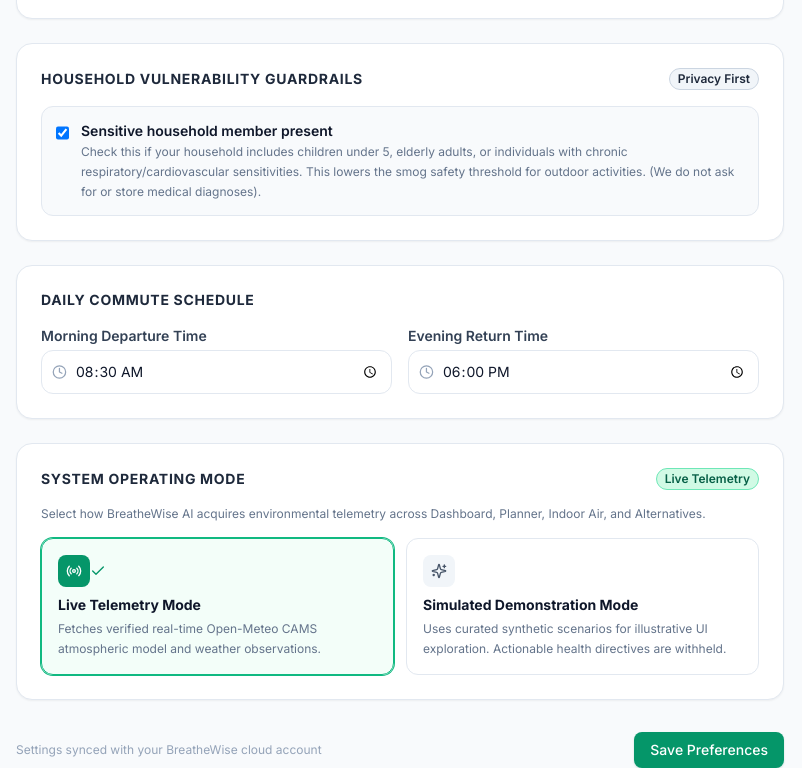
Test: Phase 7.6 — Mode Controls & Final Integration › 3. SettingsPage Mode Controls & Carry-Forward Bug Resolution › 3.6 Handles unconfigured Firebase gracefully without crashing
This screenshot has width=802, height=768.
(page scrolled)
Click the button with test id "save-preferences-button" at (709, 750), box x1=634 y1=732 x2=784 y2=767
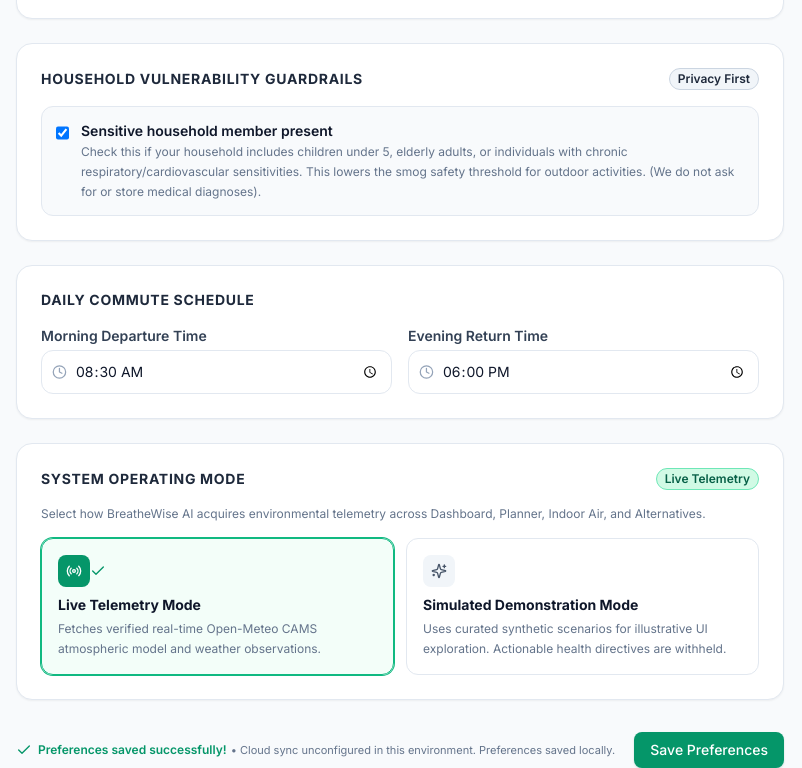
expect the element with test id "save-success-indicator" is shown: met, box x1=16 y1=742 x2=227 y2=758
expect the text "Cloud sync unconfigured in this environment" is shown: met, box x1=231 y1=743 x2=615 y2=757
